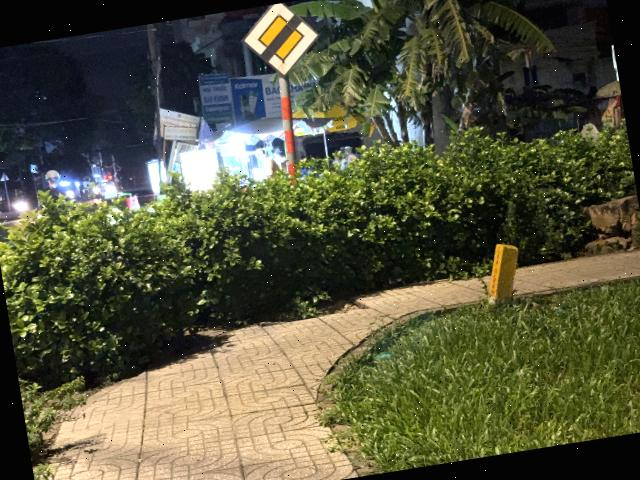het-duong-uu-tien: (235, 0, 326, 84)
